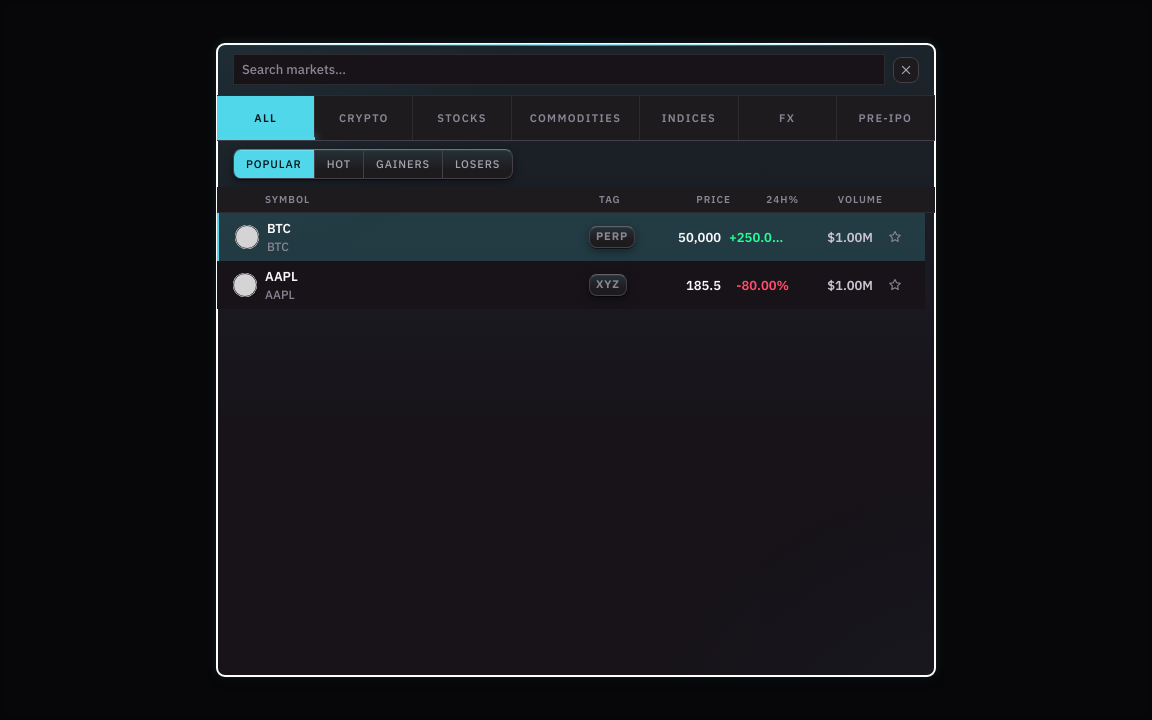
Test: MarketSelectionWindow › asset-class category tabs + volume filter (Minara 1:1, ADR-0062) › the STOCKS tab shows only stock markets, hiding crypto
Expected: the number of buttons named "Select" is 2, [217, 213, 925, 261]; [217, 261, 925, 309]
Click the tab "STOCKS": coordinates (463, 118) [414, 96, 512, 140]
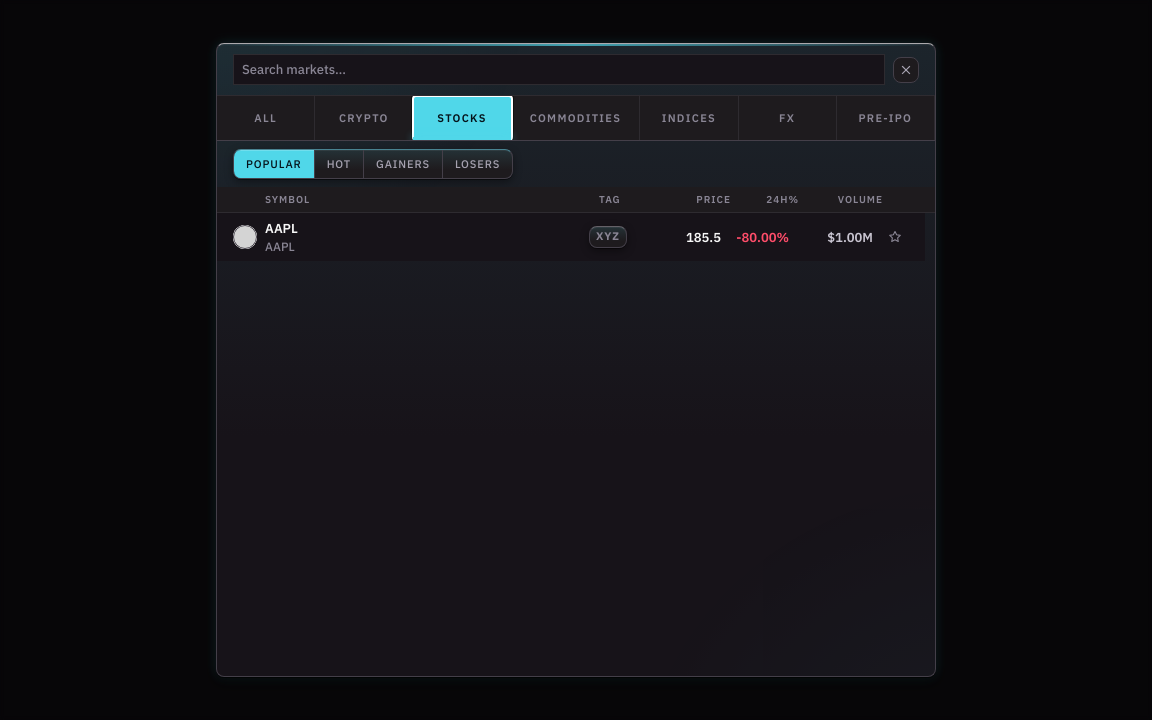
Now the number of buttons named "Select" is 1, box [217, 213, 925, 261]
